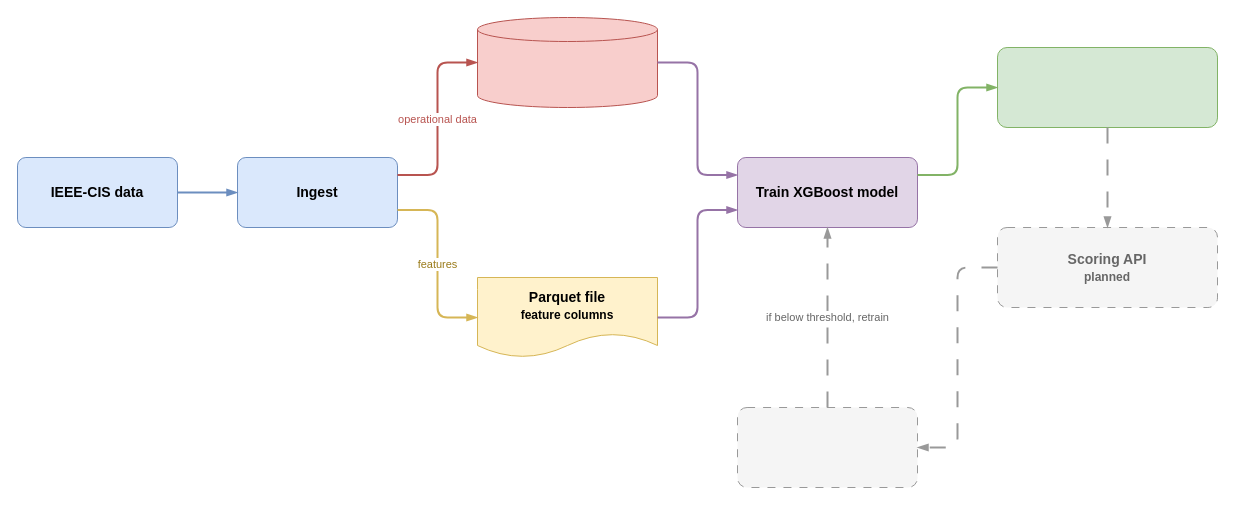
This 1235x505 diagram has some shape labels left out. Here are the shapes that lost their labels. From the top down, the centre of each, then its label:
At (567,62): "PostgreSQL transactions".
At (1107,87): "MLflow runs + model artifacts".
At (827,447): "Monitor vs threshold planned".
